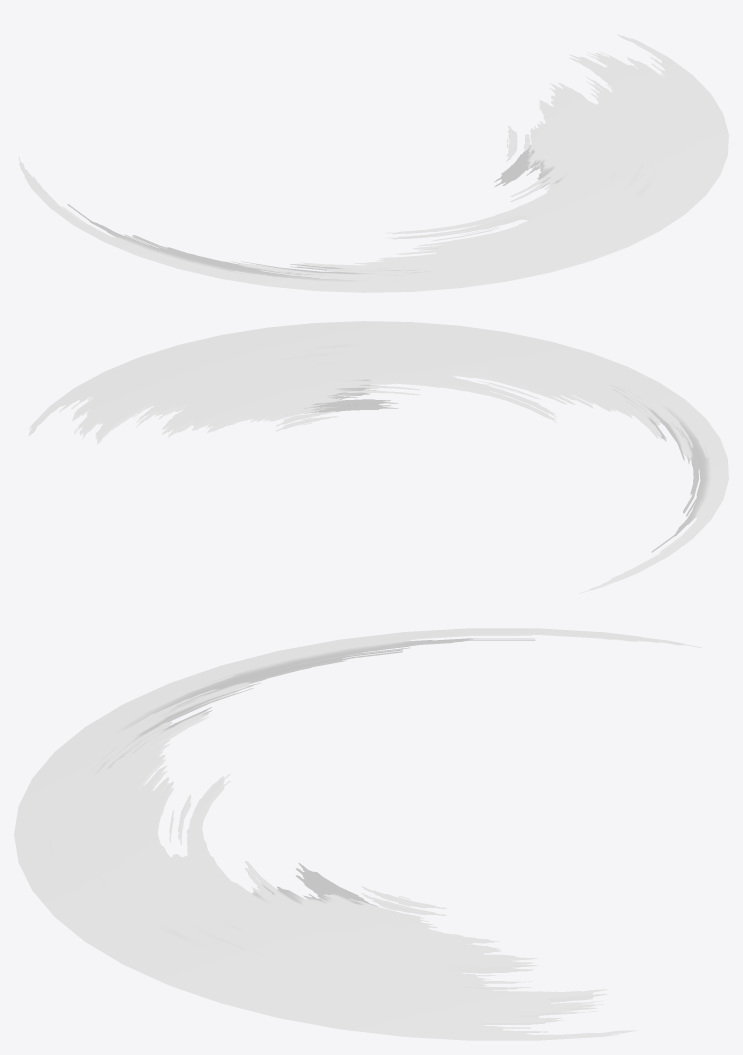
File: VFX_SlashTrail1.FBX
The picture shows the model from 3 angles, top to bottom: view 1: azimuth 30°, elevation 25°; view 2: azimuth 150°, elevation 25°; view 3: azimuth 270°, elevation 25°; orthographic projection. The views are drawn at different scales.
Visible parts, largest first — view 1: SlashTrail1; view 2: SlashTrail1; view 3: SlashTrail1.
Part boxes in pixels (x1,y1,x2,y2): SlashTrail1: (18, 34, 728, 292); SlashTrail1: (28, 321, 728, 593); SlashTrail1: (14, 628, 702, 1040).
Bounding box in the file's own units: 250 × 1.96 × 183.
